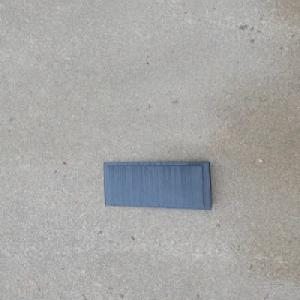PlasticPart: (101, 160, 212, 210)
